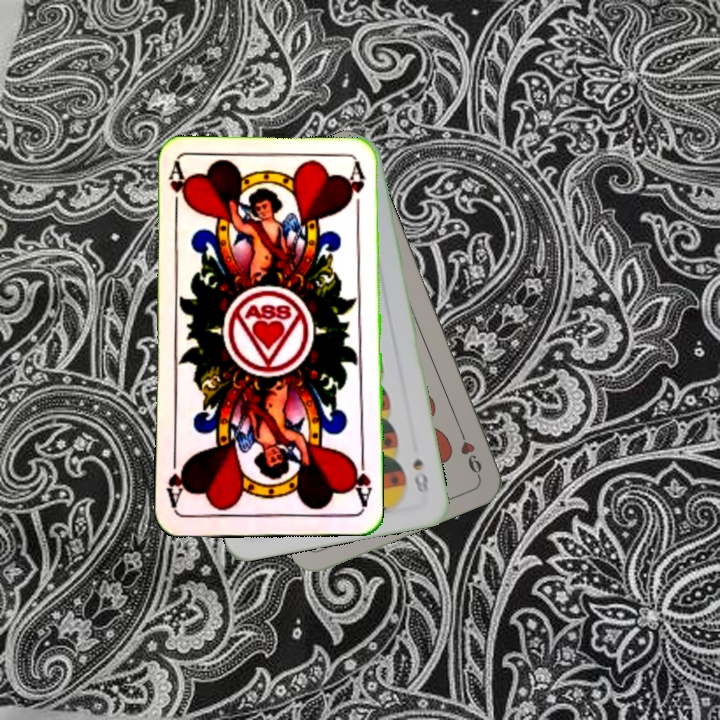H9: (454, 422, 485, 479)
HA: (347, 452, 374, 511), (165, 161, 191, 220)
S8: (408, 454, 431, 495)
